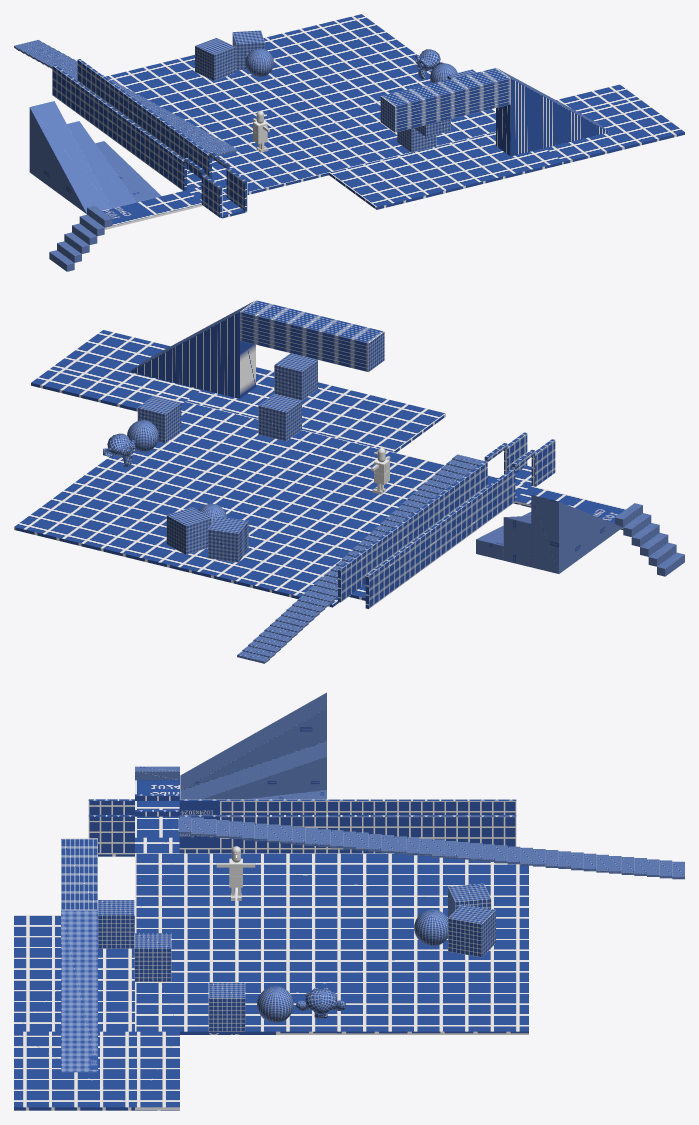
The model's file is alphamap.fbx.
3 renders of one model, top to bottom at view 1: azimuth 30°, elevation 25°; view 2: azimuth 150°, elevation 25°; view 3: azimuth 270°, elevation 25°, orthographic. The views are drawn at different scales.
Parts seen in each view (by area): view 1: Plane, Wall1, Cube3, Ramp1, Ramp5, Wall2, Stairs1, Stairs2, Ramp2, Cube1, Ramp3, Cube2 (+3 smaller); view 2: Plane, Wall1, Cube3, Ramp5, Stairs1, Wall2, Ramp1, Stairs2, Cube5, Cube4, Cube2, Cube1 (+5 smaller); view 3: Plane, Wall2, Stairs1, Wall1, Ramp5, Ramp1, Ramp2, Cube3, Cube2, Cube6, Cube5, Cube4 (+5 smaller).
Boxes of the visible parts, bbox=[...] form: Plane: bbox=[102, 14, 684, 229]; Wall1: bbox=[52, 65, 222, 217]; Cube3: bbox=[380, 68, 510, 132]; Ramp1: bbox=[29, 101, 111, 213]; Ramp5: bbox=[496, 68, 609, 156]; Wall2: bbox=[77, 59, 247, 211]; Stairs1: bbox=[14, 39, 237, 155]; Stairs2: bbox=[49, 205, 112, 271]; Ramp2: bbox=[67, 121, 136, 208]; Cube1: bbox=[195, 38, 235, 80]; Ramp3: bbox=[95, 141, 161, 202]; Cube2: bbox=[232, 30, 264, 70]; Plane: bbox=[14, 330, 625, 607]; Wall1: bbox=[365, 439, 555, 608]; Cube3: bbox=[240, 300, 384, 371]; Ramp5: bbox=[129, 301, 255, 398]; Stairs1: bbox=[237, 454, 484, 663]; Wall2: bbox=[338, 432, 527, 602]; Ramp1: bbox=[531, 495, 622, 573]; Stairs2: bbox=[615, 503, 684, 576]; Cube5: bbox=[258, 394, 301, 441]; Cube4: bbox=[274, 353, 317, 400]; Cube2: bbox=[166, 507, 211, 554]; Cube1: bbox=[208, 516, 248, 562]; Plane: bbox=[14, 780, 528, 1110]; Wall2: bbox=[88, 810, 516, 854]; Stairs1: bbox=[178, 816, 684, 879]; Wall1: bbox=[88, 794, 516, 814]; Ramp5: bbox=[61, 910, 97, 1072]; Ramp1: bbox=[180, 692, 326, 790]; Ramp2: bbox=[180, 741, 326, 799]; Cube3: bbox=[61, 838, 97, 943]; Cube2: bbox=[448, 904, 495, 957]; Cube6: bbox=[208, 982, 245, 1031]; Cube5: bbox=[134, 933, 171, 981]; Cube4: bbox=[98, 900, 134, 948].
Size of the model in its own units: 91.57 by 17.4 by 73.09.
Materials: 2 (2 with a texture image).
